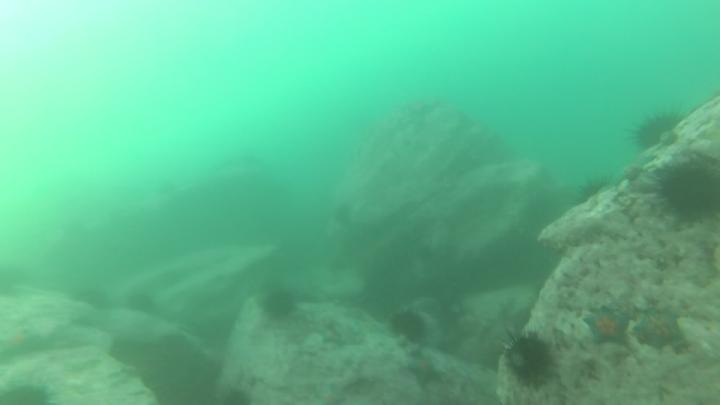echinus: (652, 152, 720, 232), (497, 329, 555, 393), (627, 107, 684, 153), (390, 307, 431, 345), (260, 287, 299, 325), (575, 174, 612, 209), (1, 382, 54, 405), (125, 288, 158, 317), (72, 287, 113, 309), (1, 263, 26, 297), (332, 202, 356, 230), (222, 386, 253, 405)
starfish: (634, 304, 687, 355), (582, 302, 634, 351), (404, 352, 450, 393)
